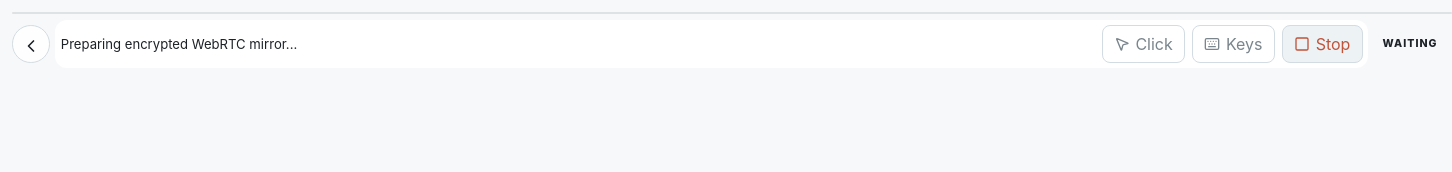
Test: ScreenViewWorkspace › stops locally and ignores a delayed stop reply after starting again
Click the button "Stop" at (1322, 44), box top-left (1282, 25), bottom-right (1363, 63)
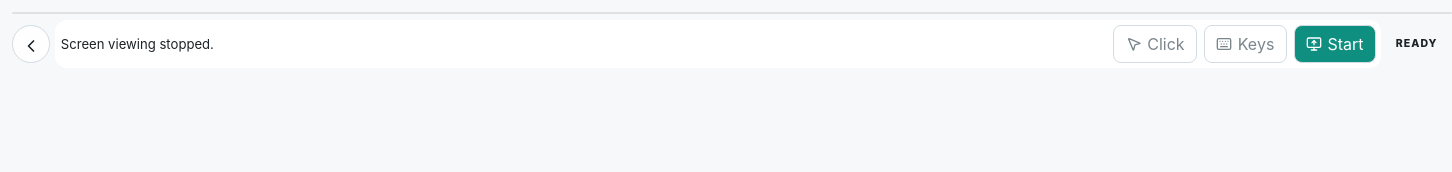
Expected: the message reads "Screen viewing stopped.", top-left (61, 36), bottom-right (214, 52)
Click the button "Start" at (1335, 44), box top-left (1294, 25), bottom-right (1376, 63)
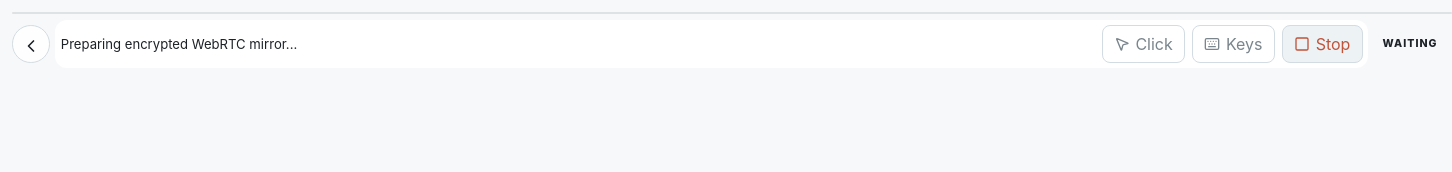
Expected: the button "Stop" is shown, top-left (1282, 25), bottom-right (1363, 63)
Expected: the message reads "Preparing encrypted WebRTC mirror...", top-left (61, 36), bottom-right (297, 52)
